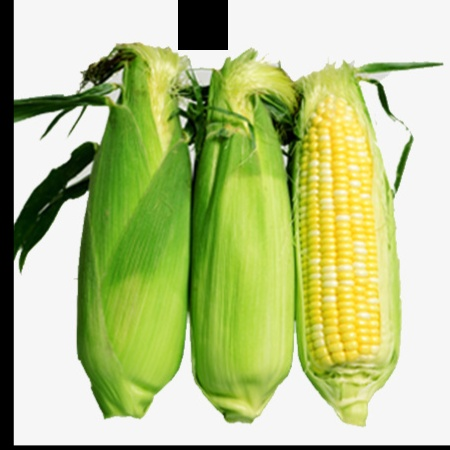corn: (292, 55, 400, 415)
corn_plant: (52, 33, 191, 420), (196, 54, 288, 413)
